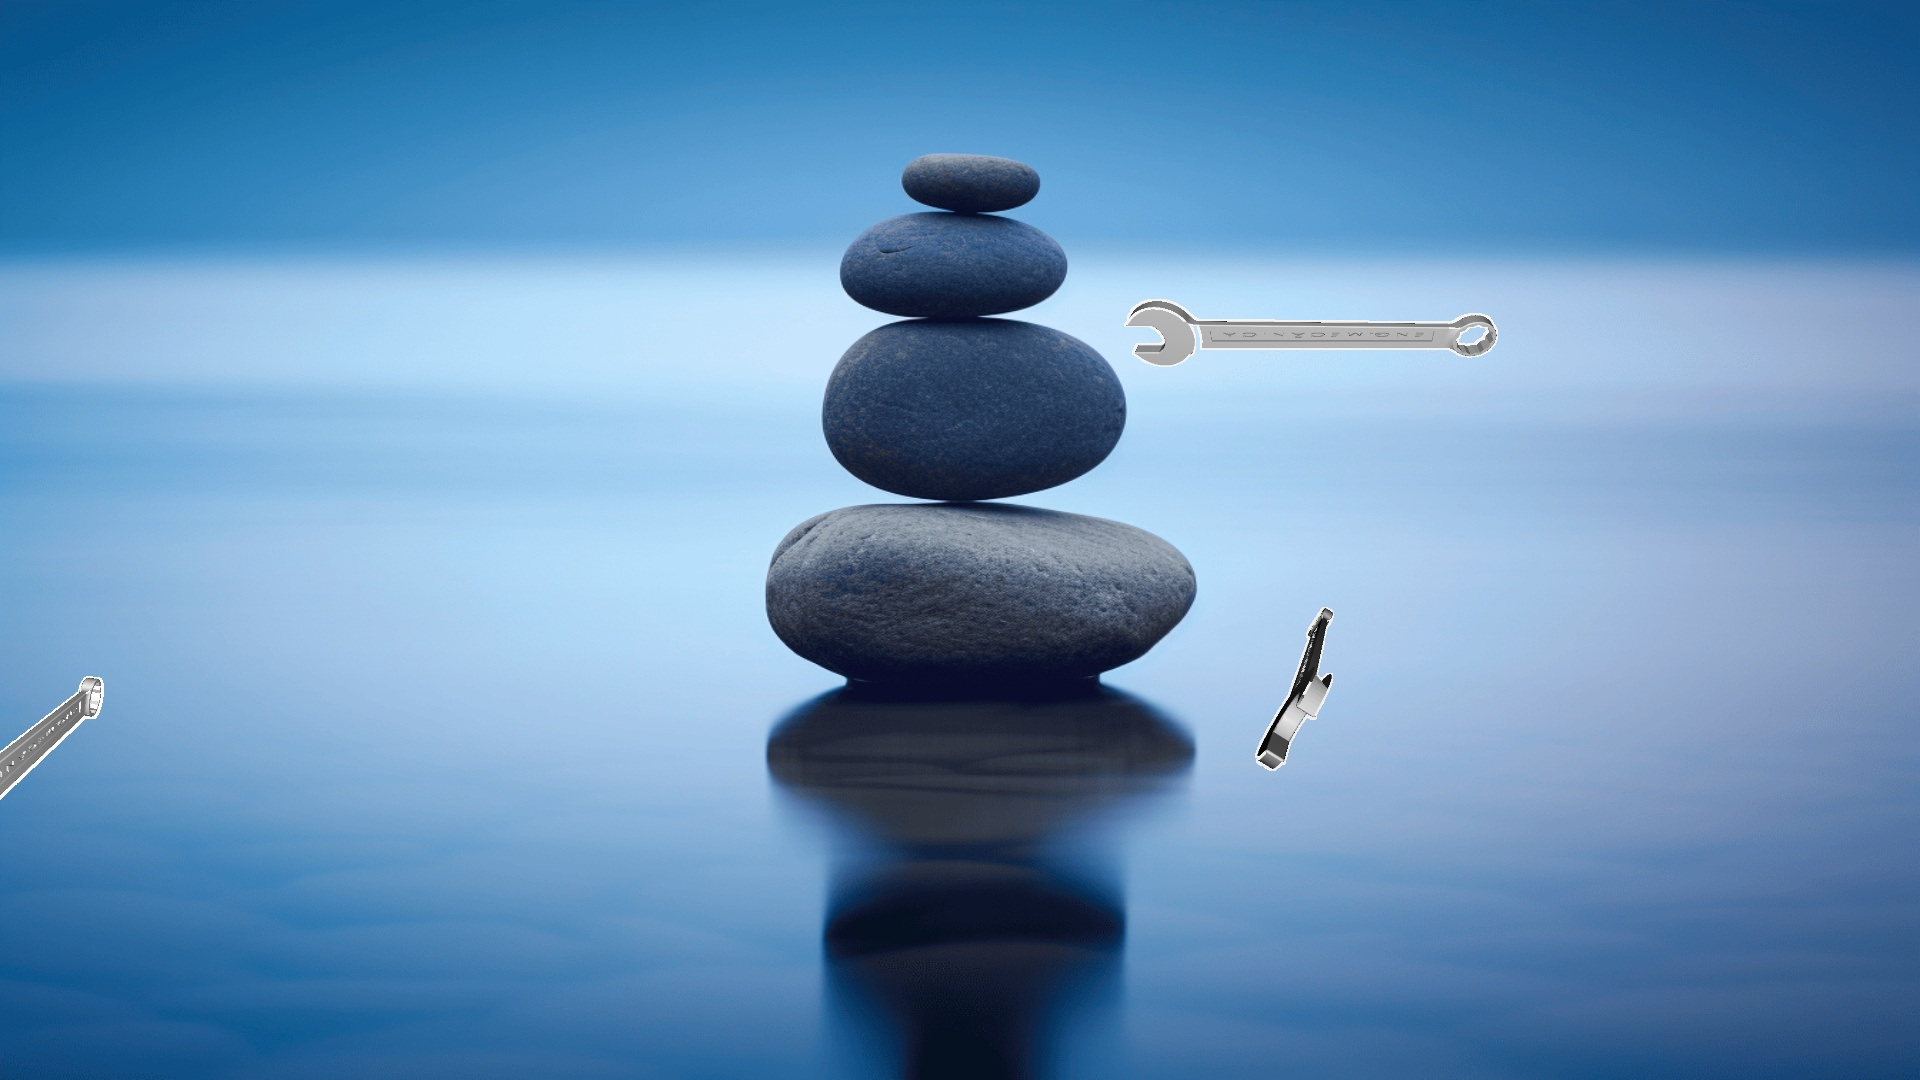Mixed Key: (135, 0, 397, 276), (1124, 299, 1497, 367), (1255, 607, 1333, 770), (0, 676, 103, 799)
